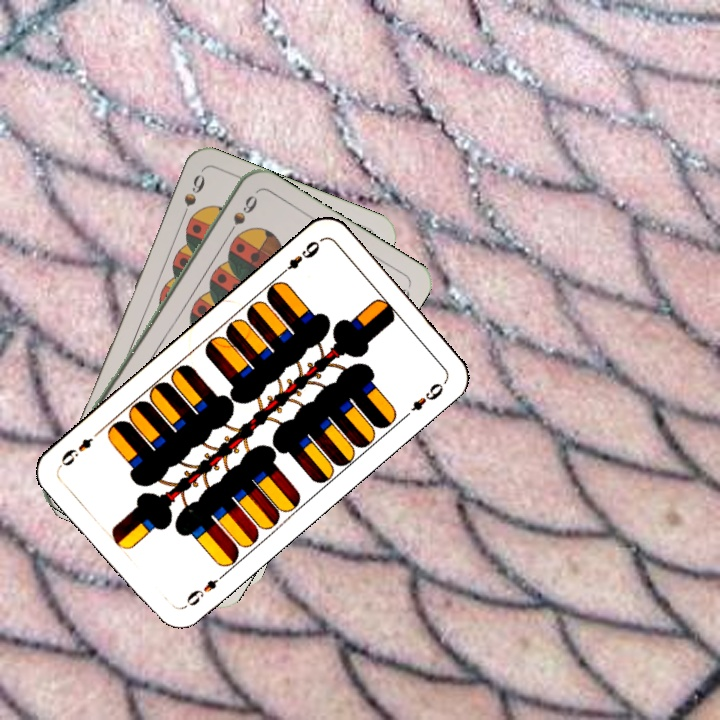E9: (179, 568, 229, 611), (275, 236, 323, 279)
S9: (221, 191, 259, 243), (176, 171, 208, 226)
